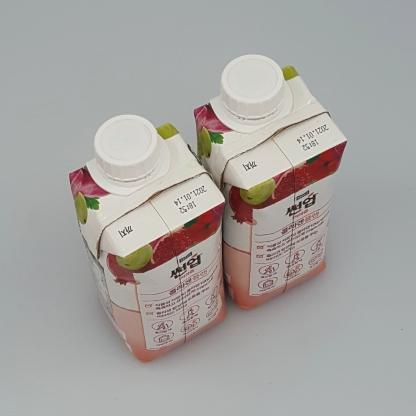--------------330ML: (69, 114, 227, 364), (194, 54, 348, 310)
